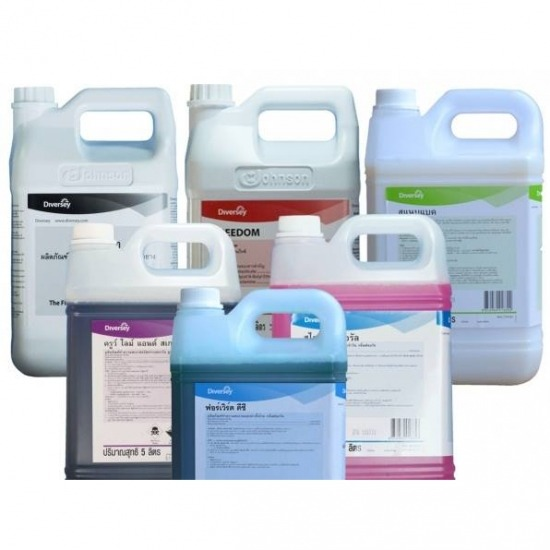Cleaning_solution: (259, 209, 461, 486), (368, 82, 550, 389), (8, 82, 183, 380), (60, 217, 244, 483), (166, 281, 349, 484), (181, 78, 364, 240)
